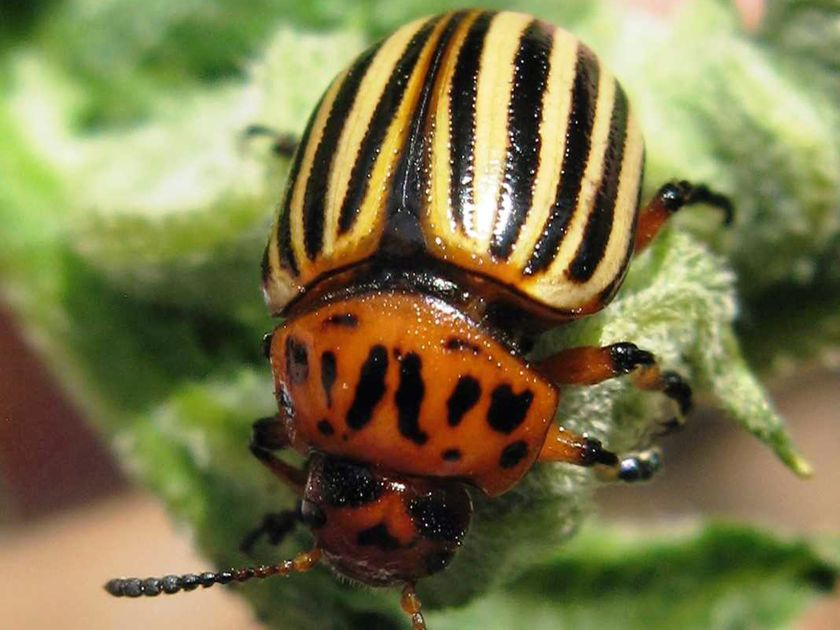hrosc: (242, 9, 655, 615)
